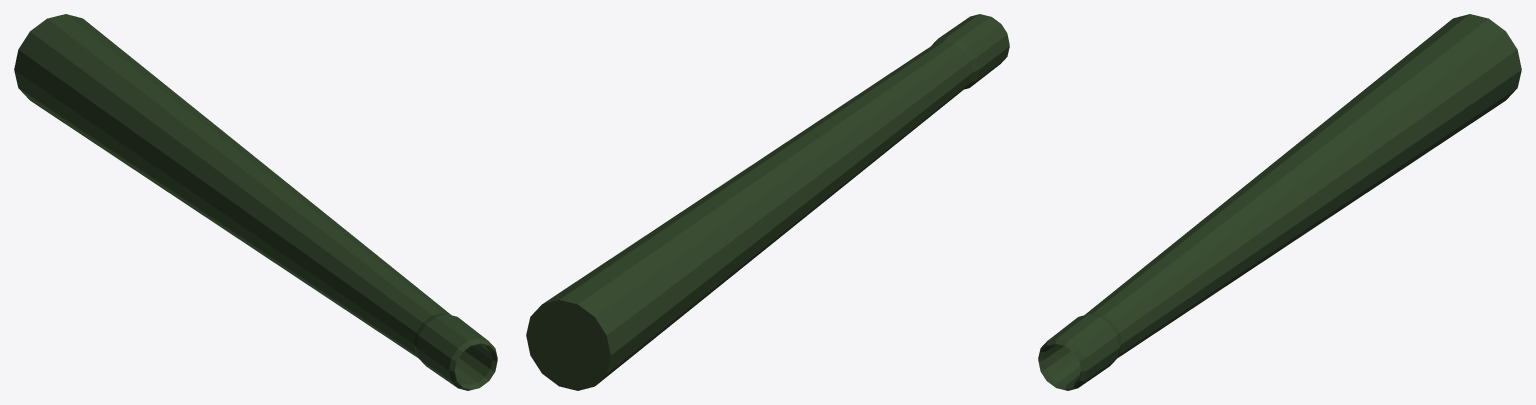
Rendered from GREEN FINISHED TANK LONE BARREL 3.fbx.
3 renders of one model, left to right at view 1: azimuth 30°, elevation 25°; view 2: azimuth 150°, elevation 25°; view 3: azimuth 330°, elevation 25°, orthographic.
Parts seen in each view (by area): view 1: Cylinder.002; view 2: Cylinder.002; view 3: Cylinder.002.
Boxes of the visible parts, x1,y1,x2,y2 form: Cylinder.002: (14, 14, 497, 390); Cylinder.002: (526, 14, 1009, 390); Cylinder.002: (1038, 14, 1521, 390).
Bounding box in the file's own units: 26.57 × 25.9 × 228.
